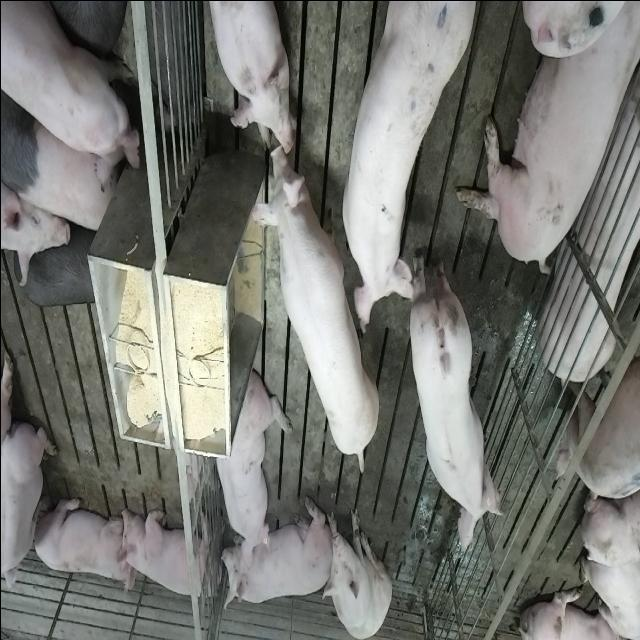Lateral_lying: (454, 4, 636, 277), (538, 62, 640, 382)
Sitting: (322, 502, 391, 637)
Standing: (338, 4, 480, 337), (251, 148, 380, 472), (406, 244, 503, 548), (2, 0, 140, 182), (2, 74, 121, 235), (554, 291, 640, 497)
Sternal_lying: (210, 366, 284, 556), (202, 2, 291, 156), (219, 503, 327, 613), (117, 501, 216, 603), (2, 416, 56, 600), (31, 491, 131, 589)
